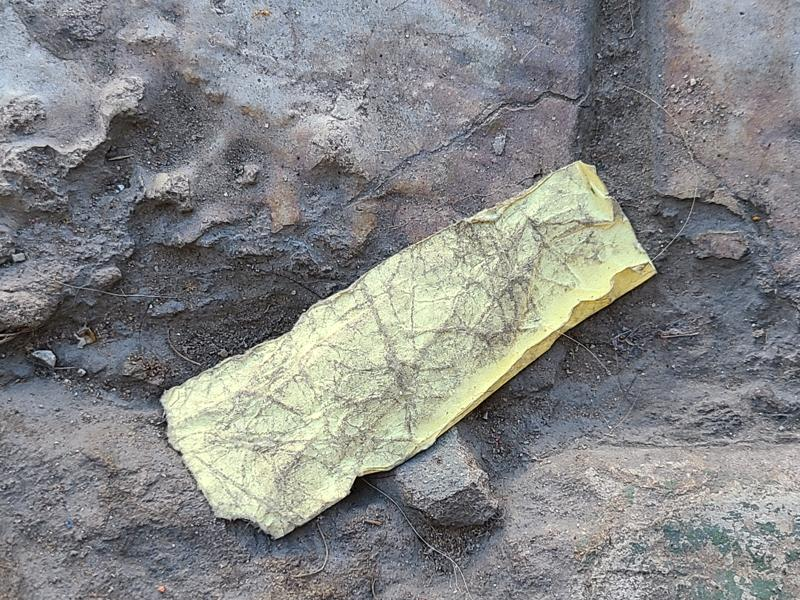papel: (159, 162, 658, 541)
